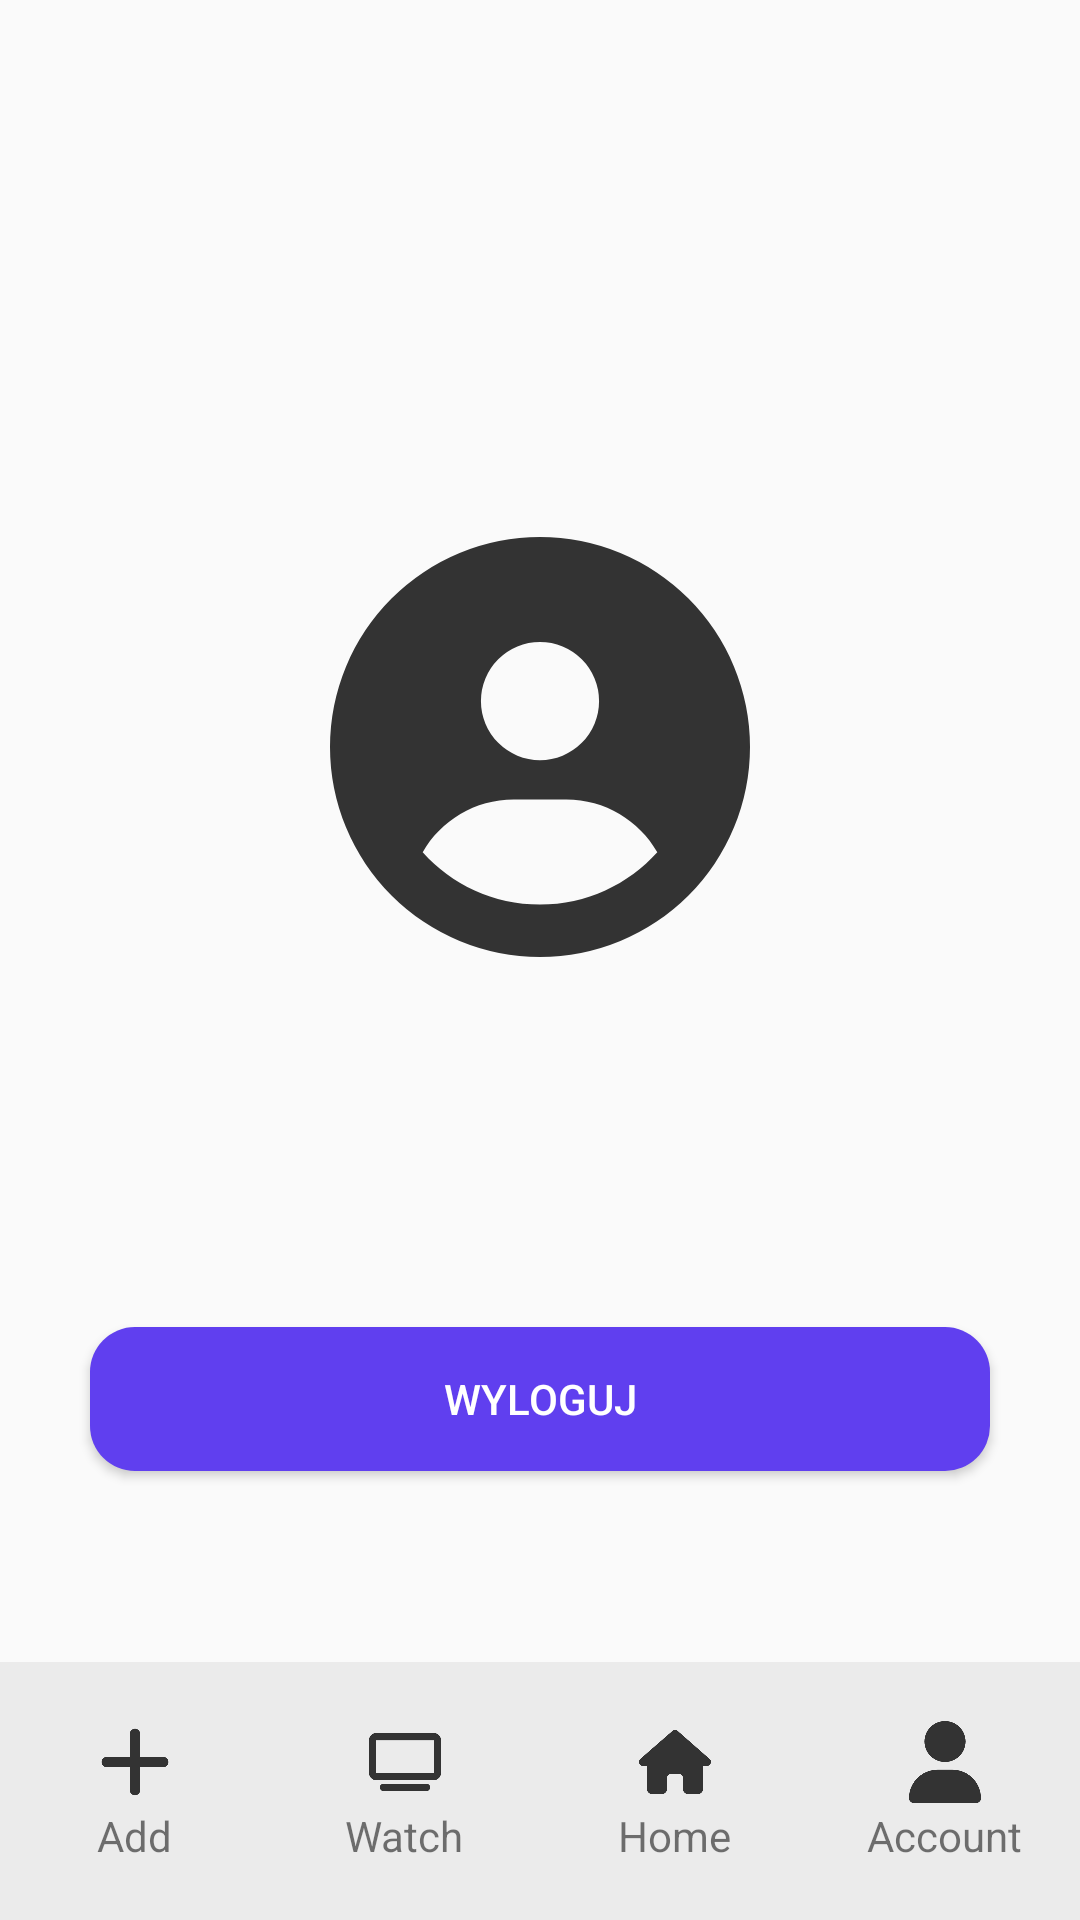

Icon click points for this 1080x1920 phone screenshot, format (x,y):
user: (945,1762)
